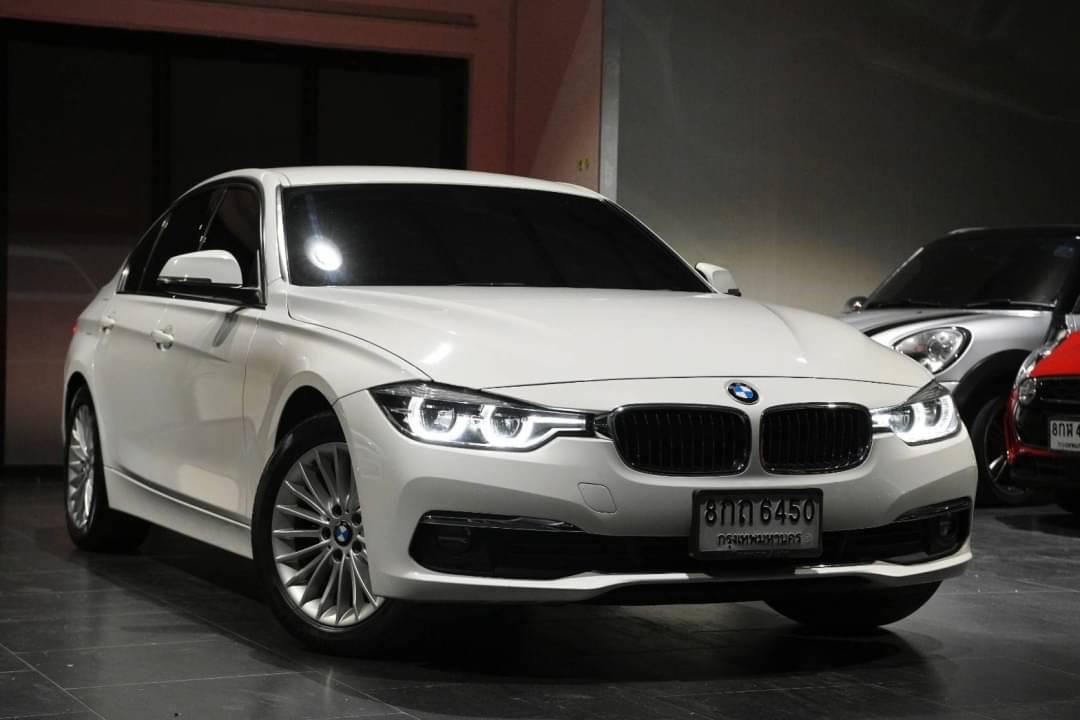license-plate: (692, 484, 823, 556), (1047, 415, 1080, 457)
